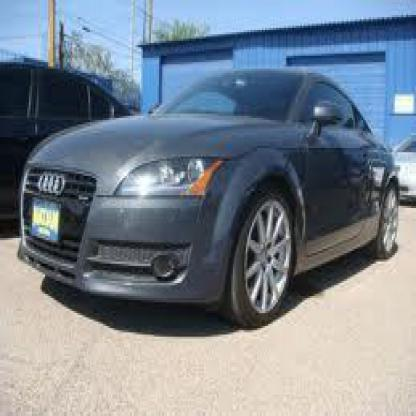Vehicle: (21, 64, 403, 335)
